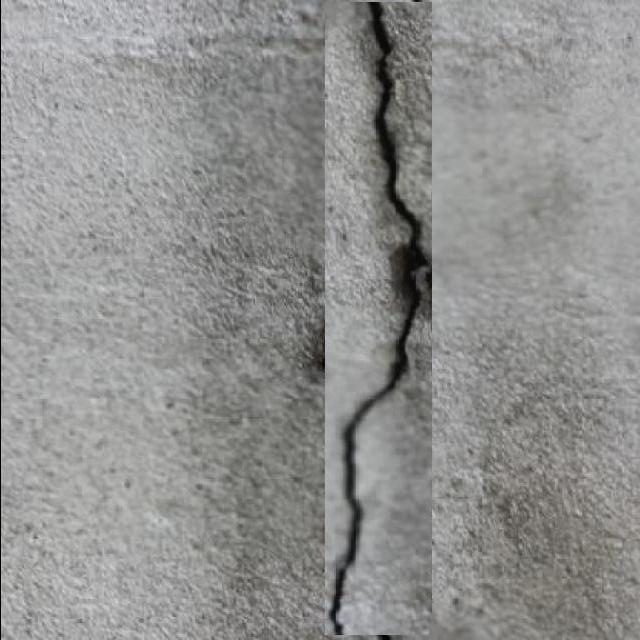crack: (430, 4, 640, 636), (324, 0, 433, 639), (427, 0, 490, 605), (270, 191, 350, 640), (264, 1, 342, 401), (167, 203, 313, 358), (372, 0, 432, 323), (87, 538, 280, 638), (458, 0, 640, 105), (482, 133, 617, 274), (551, 15, 640, 206), (45, 100, 169, 226), (7, 55, 137, 163), (323, 210, 415, 361), (323, 5, 391, 191), (192, 37, 321, 133), (205, 1, 335, 80), (319, 163, 389, 283), (66, 264, 160, 333), (374, 6, 428, 71), (103, 17, 172, 61), (260, 1, 318, 38), (320, 1, 369, 44), (294, 0, 322, 21), (391, 73, 408, 100), (509, 499, 523, 520)
dampness: (2, 312, 202, 561), (181, 375, 331, 635), (0, 493, 176, 640)
